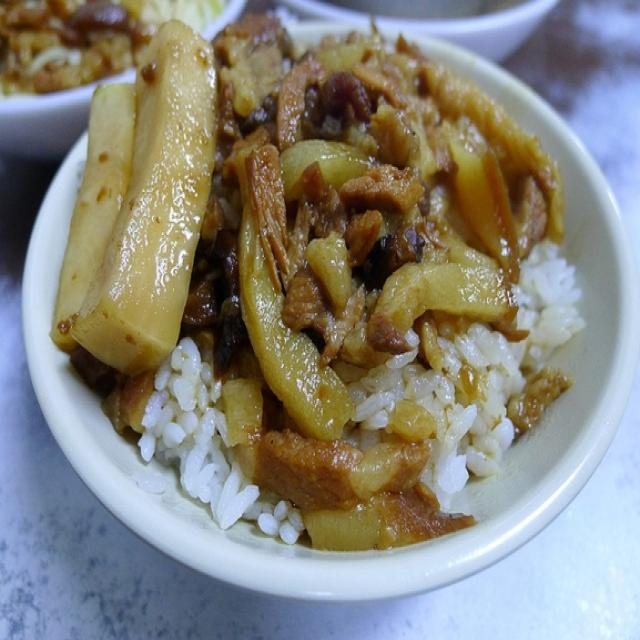猪肉菜式: (36, 18, 624, 604)
